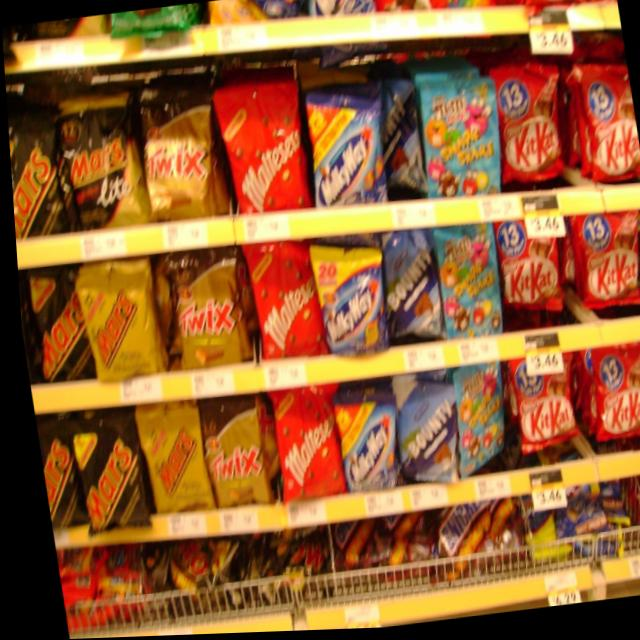q280: (484, 56, 566, 194), (563, 66, 640, 202), (574, 331, 640, 460), (498, 354, 576, 461), (490, 212, 565, 319), (574, 219, 640, 318)
